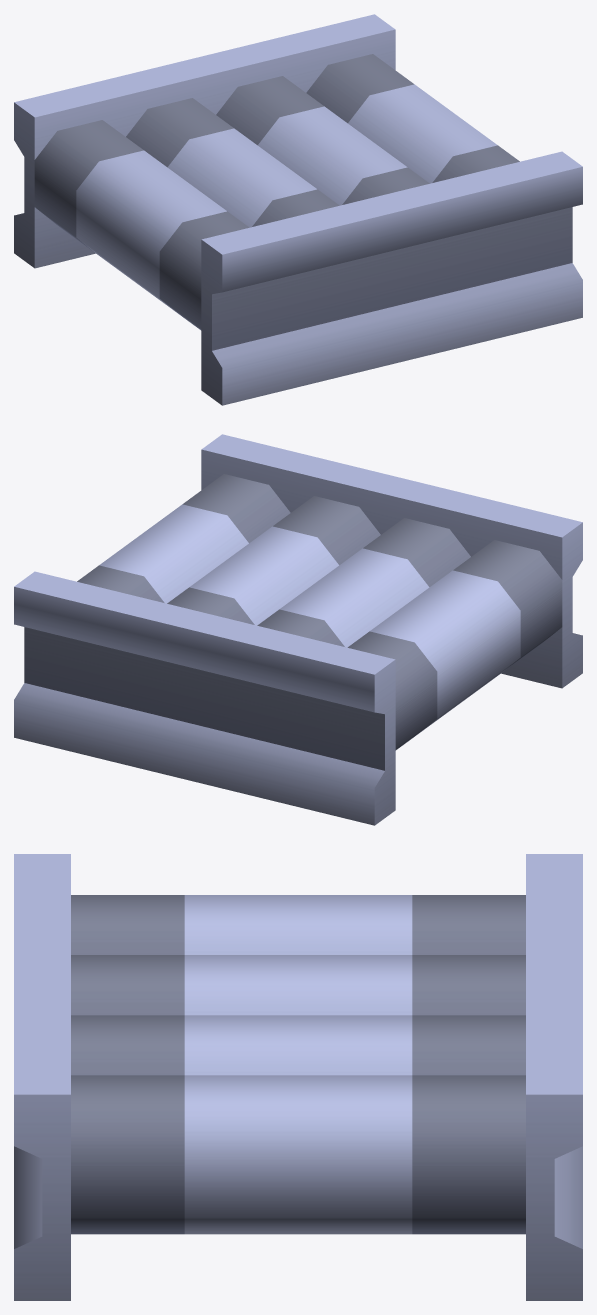
3 renders of one model, top to bottom at view 1: azimuth 30°, elevation 25°; view 2: azimuth 150°, elevation 25°; view 3: azimuth 270°, elevation 25°, orthographic. The views are drawn at different scales.
Parts seen in each view (by area): view 1: Group, Group_1; view 2: Group, Group_1; view 3: Group_1, Group.
Boxes of the visible parts, left/top/right/bottom form: Group: left=14, top=14, right=582, bottom=405; Group_1: left=34, top=54, right=519, bottom=330; Group: left=14, top=434, right=582, bottom=825; Group_1: left=77, top=474, right=562, bottom=750; Group_1: left=71, top=895, right=525, bottom=1234; Group: left=14, top=854, right=582, bottom=1300.
Bounding box in the file's own units: 1 × 0.4 × 1.
Materials: 1 (1 with a texture image).
